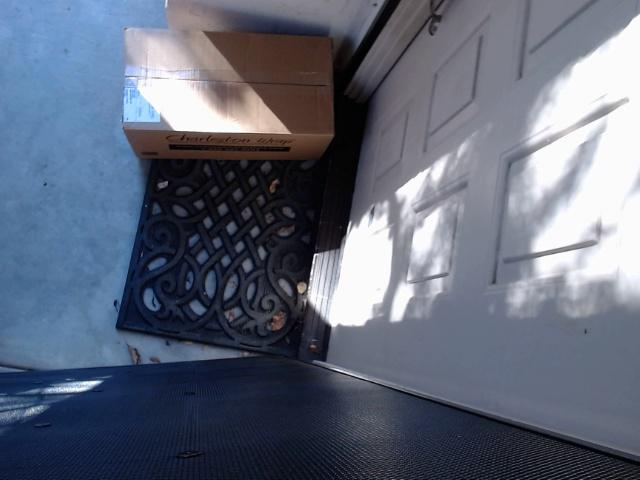box: (122, 28, 334, 161)
